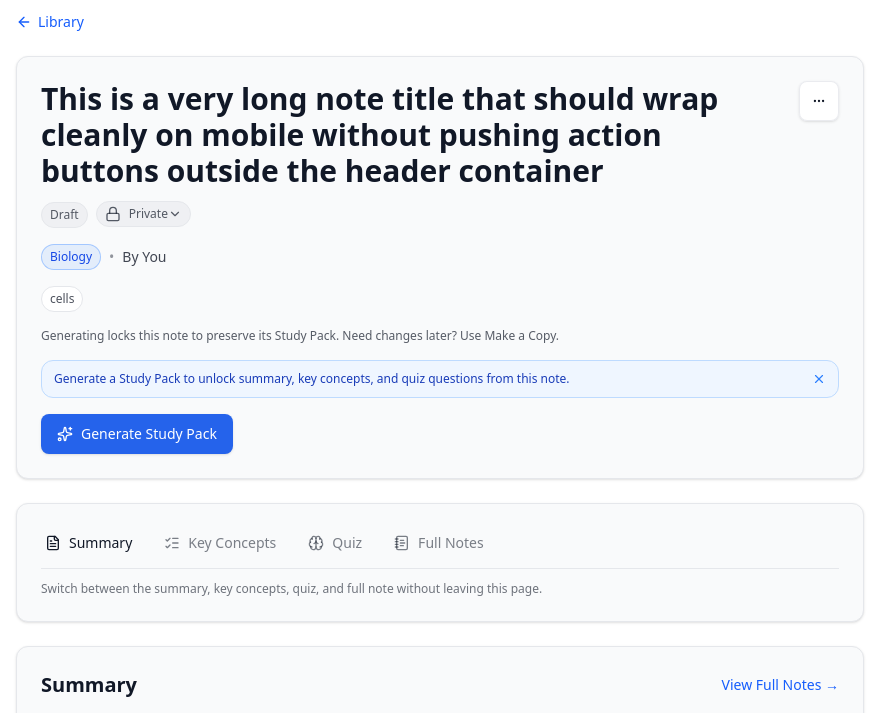
PrivateNoteDetailPageClient › shows a compact note actions menu for long mobile note headers
What coordinates should you click on to do the following:
click the button named "Open note actions"
I would click on:
 (819, 101)
Its box is [799,81,839,121].
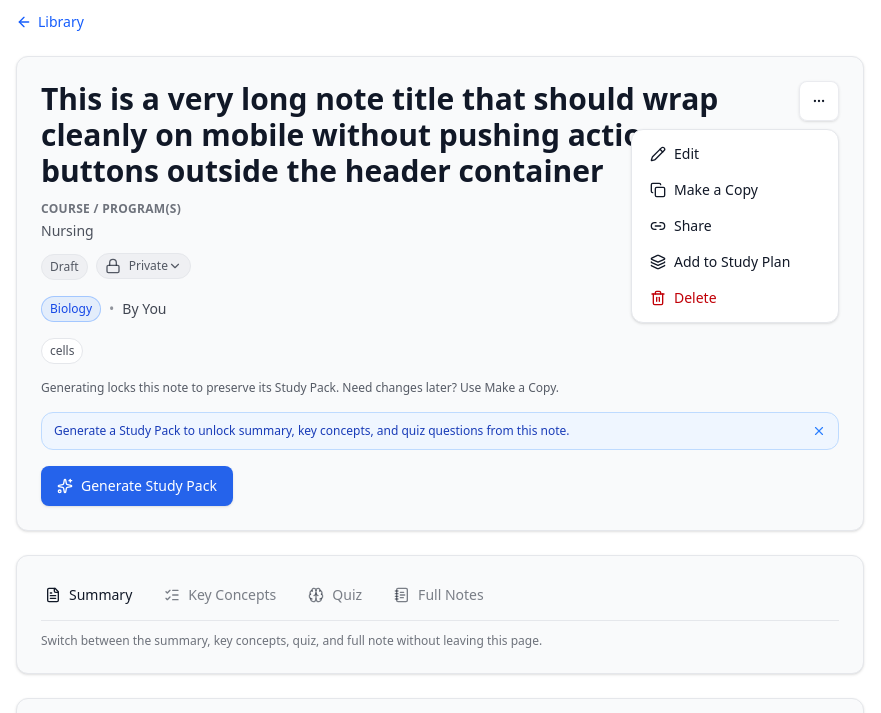
Expected: the menu named "Note actions" is shown, [631,129,839,323]
Expected: the menu item "Edit" is shown, [638,136,832,172]
Expected: the menu item "Make a Copy" is shown, [638,172,832,208]
